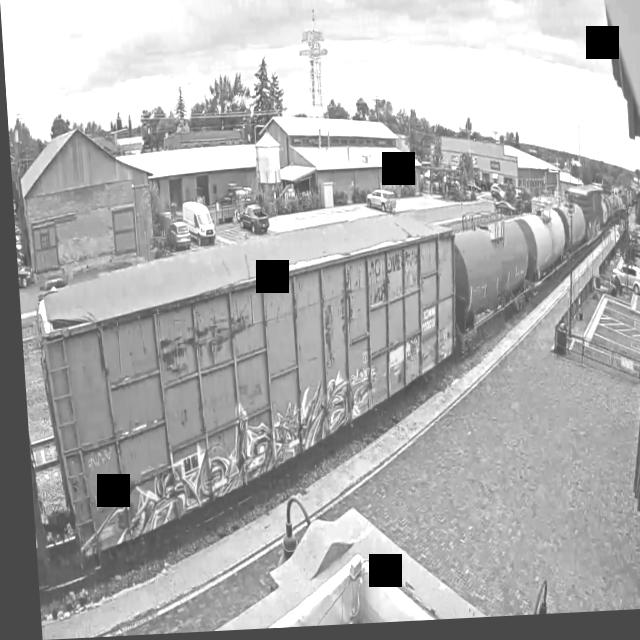gondola: (21, 200, 473, 595)
tank: (443, 214, 532, 358)
